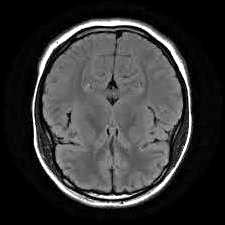Normal_Brain: (15, 1, 225, 225)
